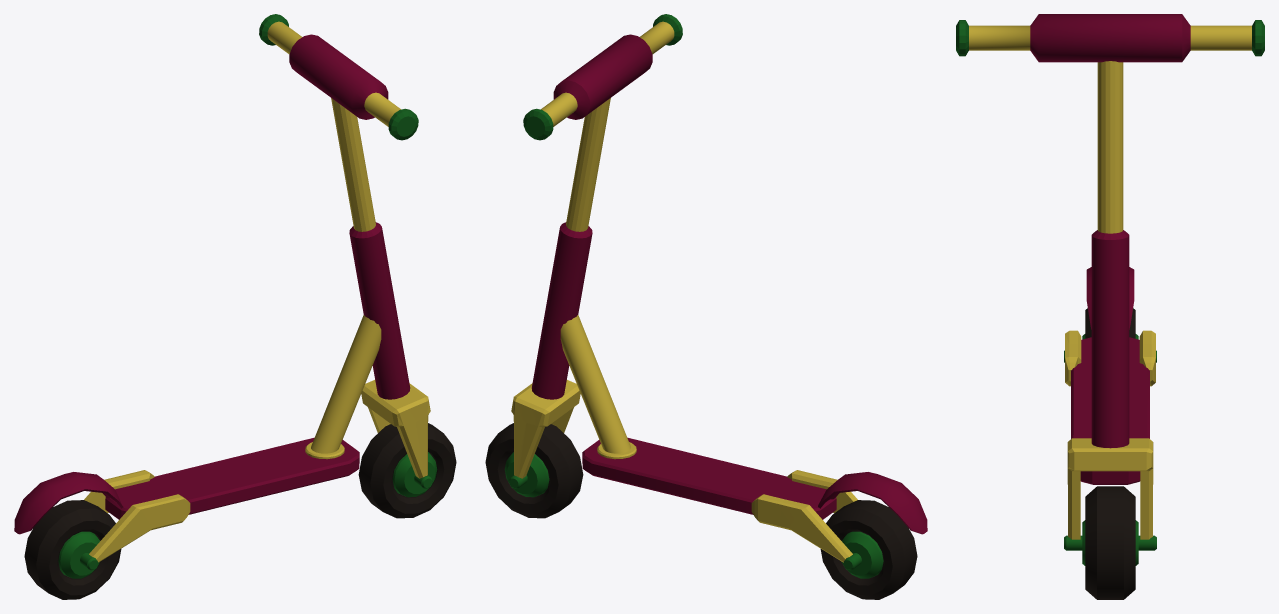
Rendered from Scooter.FBX.
3 views of the same model, side by side, from view 1: azimuth 30°, elevation 25°; view 2: azimuth 150°, elevation 25°; view 3: azimuth 270°, elevation 25° (orthographic). The views are drawn at different scales.
Visible parts, largest first — view 1: Scooter; view 2: Scooter; view 3: Scooter.
Part boxes in pixels (left/top/right/bottom): Scooter: left=14, top=14, right=456, bottom=599; Scooter: left=485, top=14, right=927, bottom=599; Scooter: left=956, top=14, right=1264, bottom=599.
Bounding box in the file's own units: 1029 × 554 × 1069.
